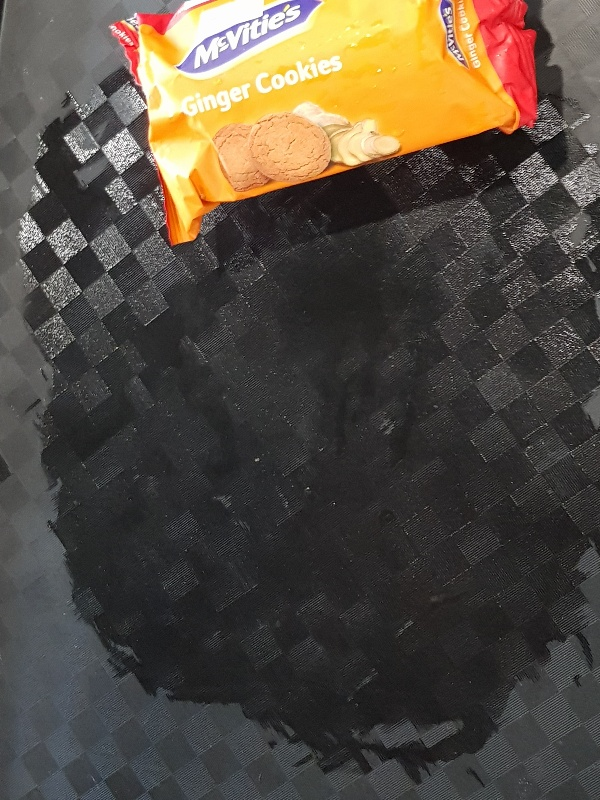McVitie's Ginger Cookies: (108, 1, 535, 247)
